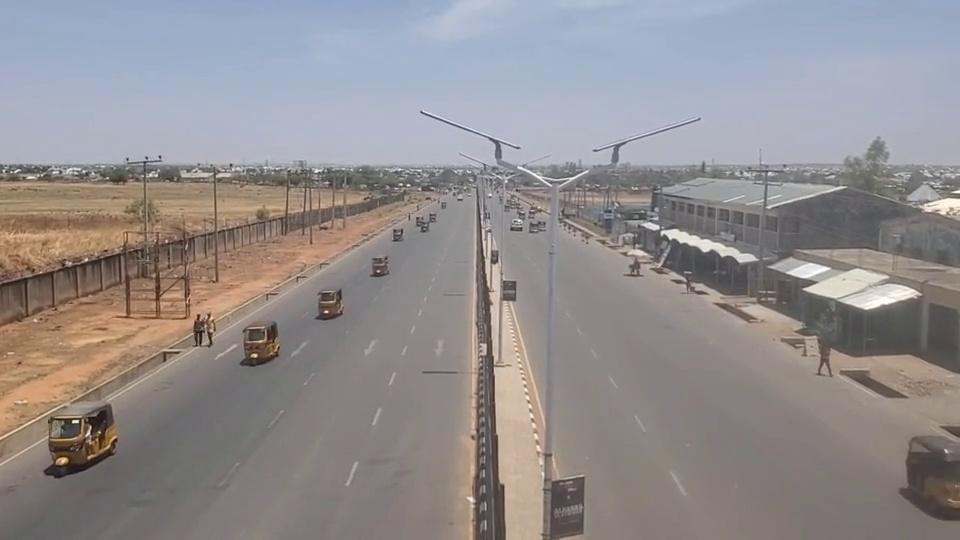keke: (46, 399, 118, 468), (905, 432, 960, 521), (242, 320, 280, 364), (316, 287, 343, 318), (372, 255, 391, 276)
